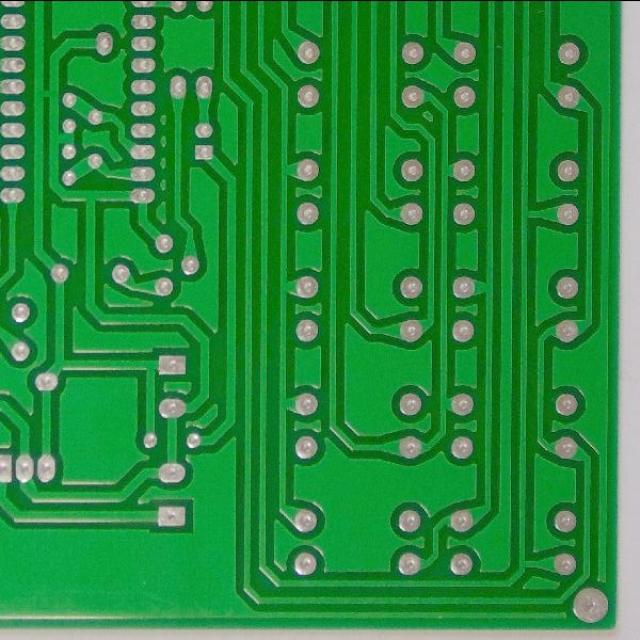short: (32, 80, 59, 107)
